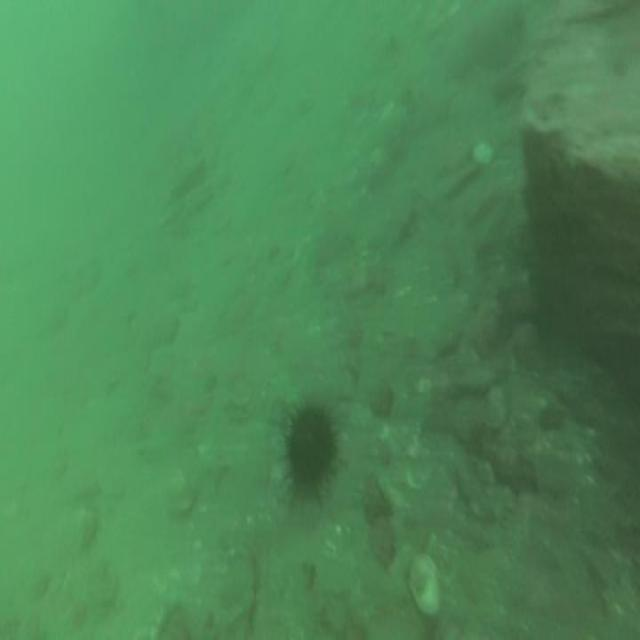echinus: (280, 397, 339, 507)
